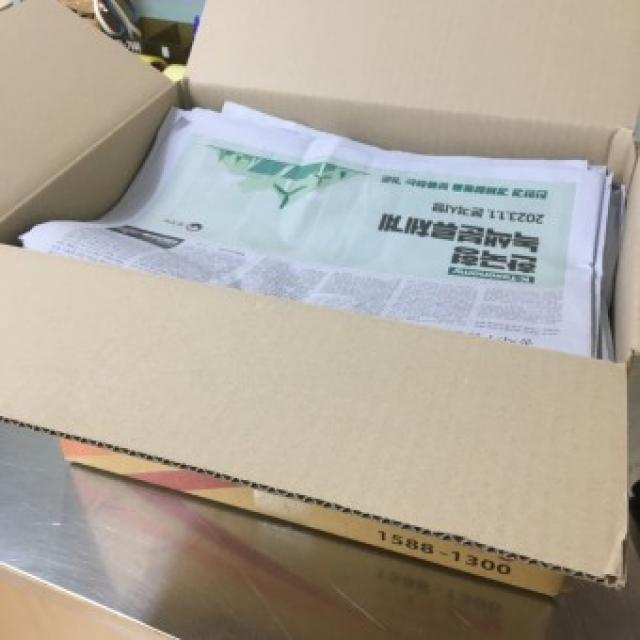Newspaper: (21, 99, 615, 361)
